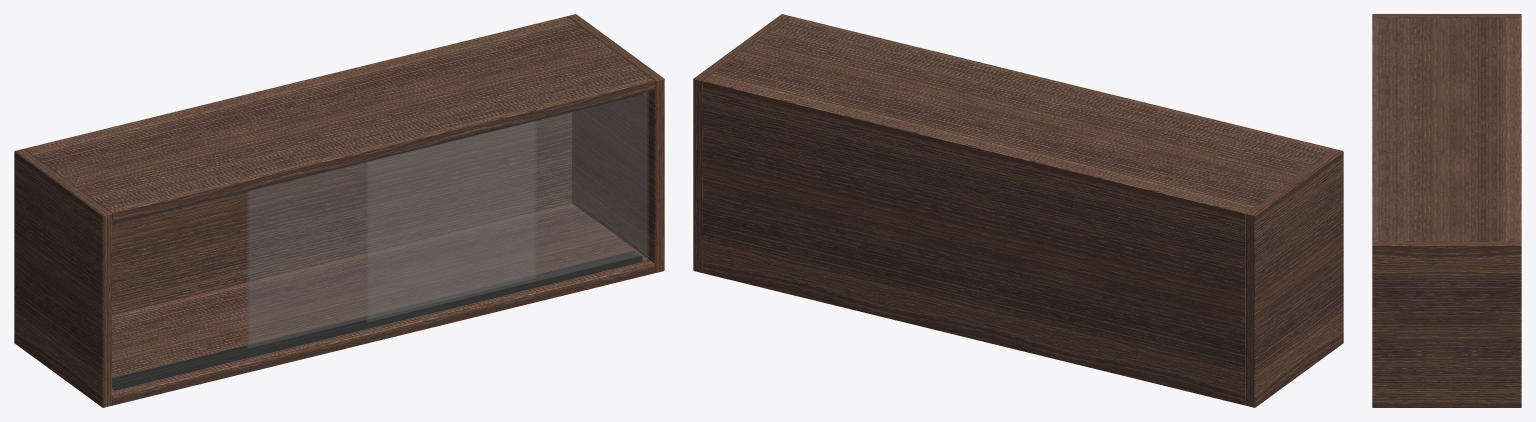
File: Shelf 5.FBX
The picture shows the model from 3 angles, left to right: view 1: azimuth 30°, elevation 25°; view 2: azimuth 150°, elevation 25°; view 3: azimuth 270°, elevation 25°; orthographic projection. The views are drawn at different scales.
Parts seen in each view (by area): view 1: Shelf 5, glass A, glass B; view 2: Shelf 5; view 3: Shelf 5.
Part boxes in pixels (left/top/right/bottom): Shelf 5: left=14, top=14, right=664, bottom=407; glass A: left=247, top=121, right=536, bottom=348; glass B: left=366, top=92, right=648, bottom=321; Shelf 5: left=693, top=14, right=1343, bottom=407; Shelf 5: left=1372, top=14, right=1521, bottom=407.
Bounding box in the file's own units: 126 × 41.39 × 34.49.
3 materials, 1 textured.
